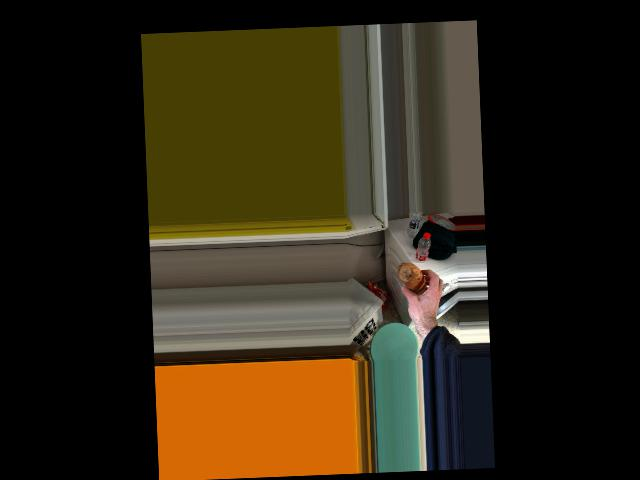sweet_potato: (398, 260, 426, 295)
